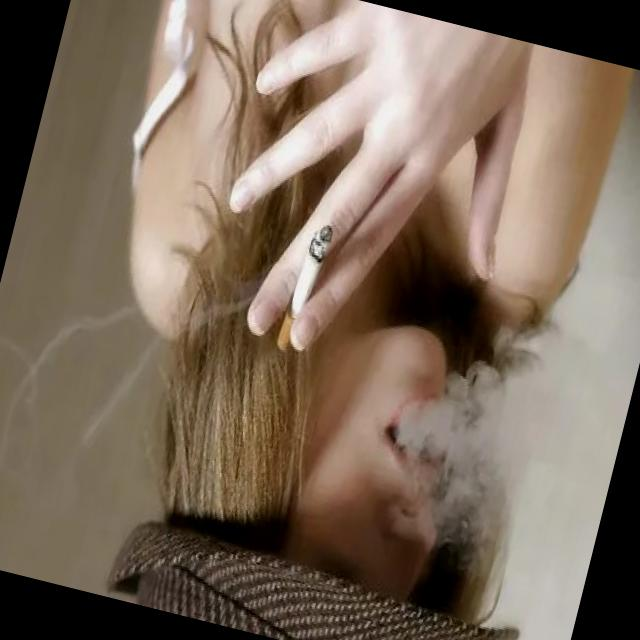cigarette: (267, 210, 342, 360)
